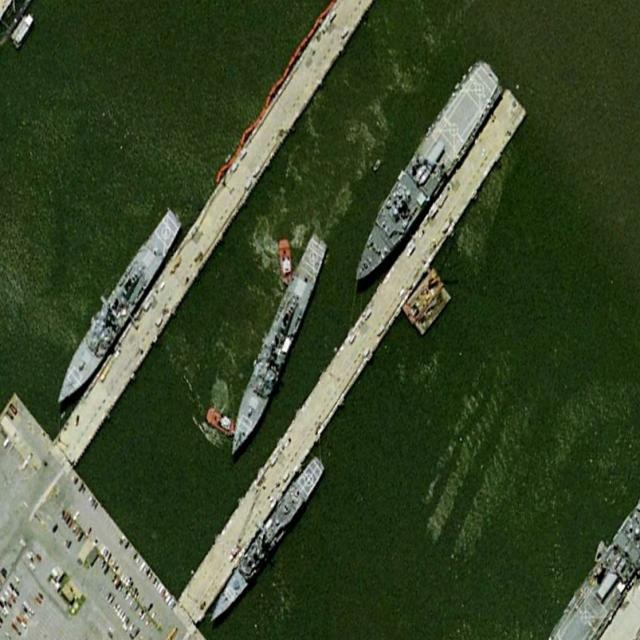Destroyer: (48, 201, 186, 416), (223, 230, 331, 464)
Frigate: (203, 450, 329, 632)
Hovercraft: (203, 403, 238, 441), (276, 237, 295, 285)
Landing: (344, 50, 506, 301)
